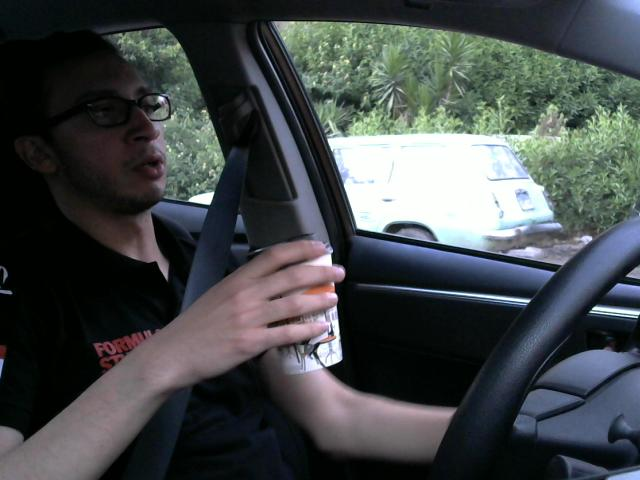Drinking: (240, 238, 347, 378)
